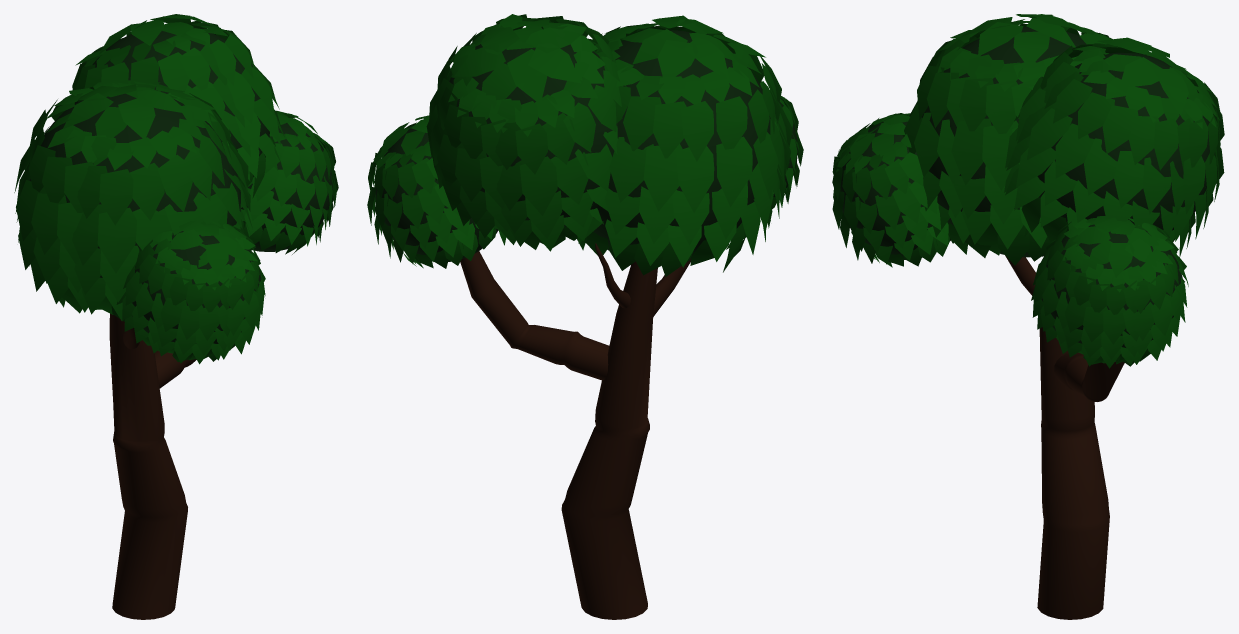
Rendered from SM_Tree.fbx.
3 renders of one model, left to right at view 1: azimuth 30°, elevation 25°; view 2: azimuth 150°, elevation 25°; view 3: azimuth 270°, elevation 25°, orthographic. The views are drawn at different scales.
Parts seen in each view (by area): view 1: Tree; view 2: Tree; view 3: Tree.
Part boxes in pixels (x1,y1,x2,y2): Tree: [14, 14, 338, 619]; Tree: [367, 14, 803, 619]; Tree: [832, 14, 1224, 619].
Bounding box in the file's own units: 23.17 × 36.15 × 22.12.
